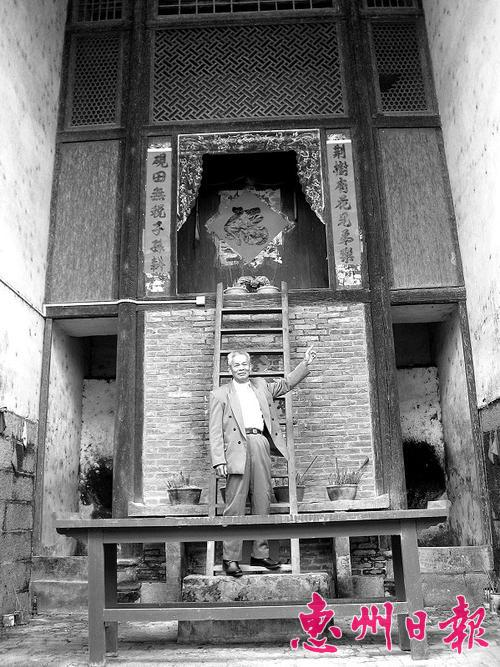handsup: (205, 341, 329, 583)
